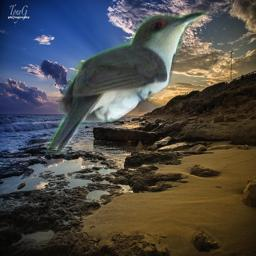Cuckoo: (46, 10, 208, 155)
